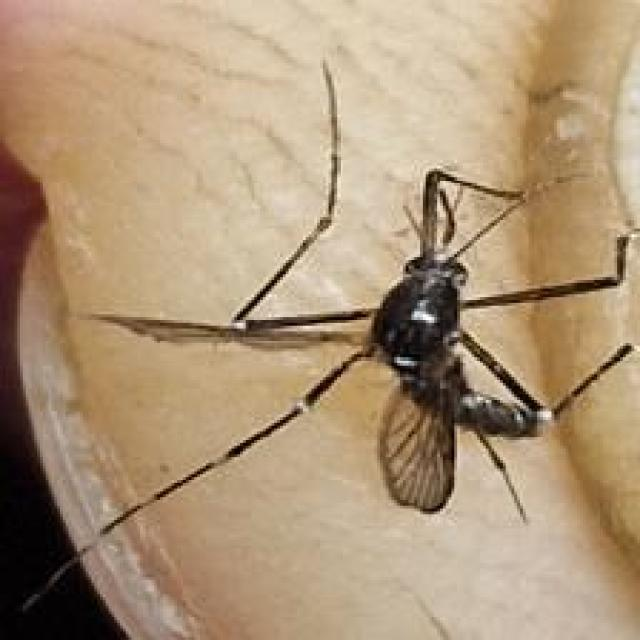Aedes albopictus: (73, 54, 638, 549)
